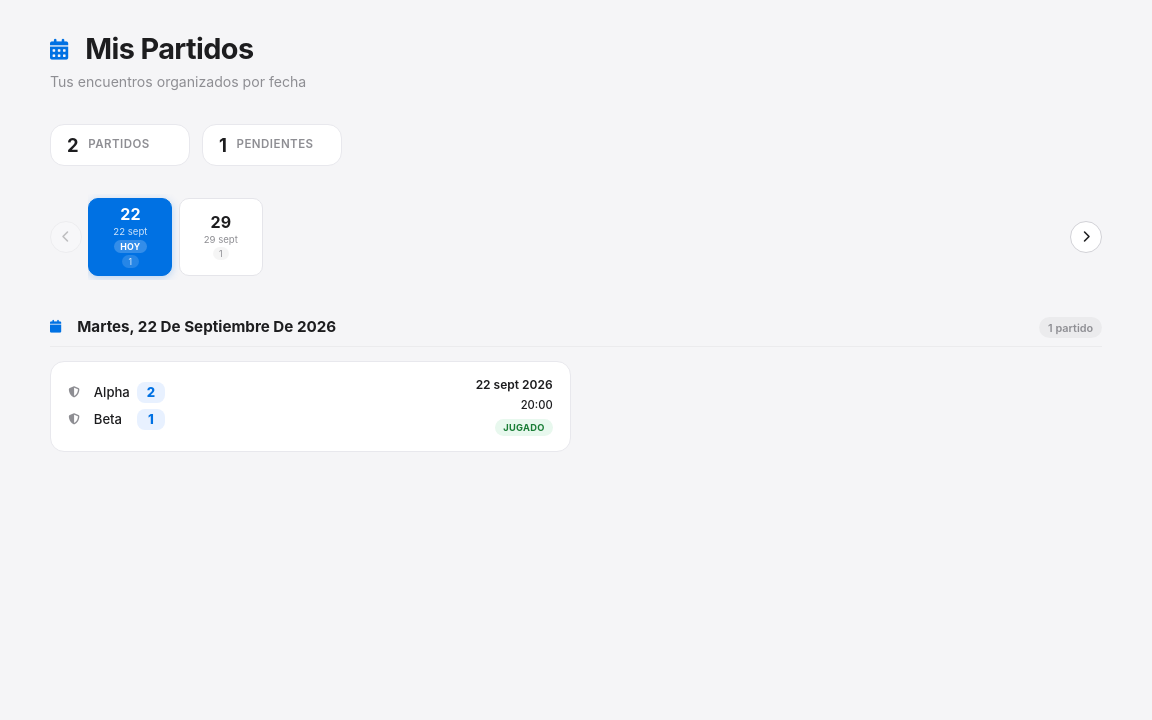
MyMatches › abre el modal de detalle al pulsar un partido
The width and height of the screenshot is (1152, 720).
Click the text "Alpha" at (112, 393), box [94,383,130,403]
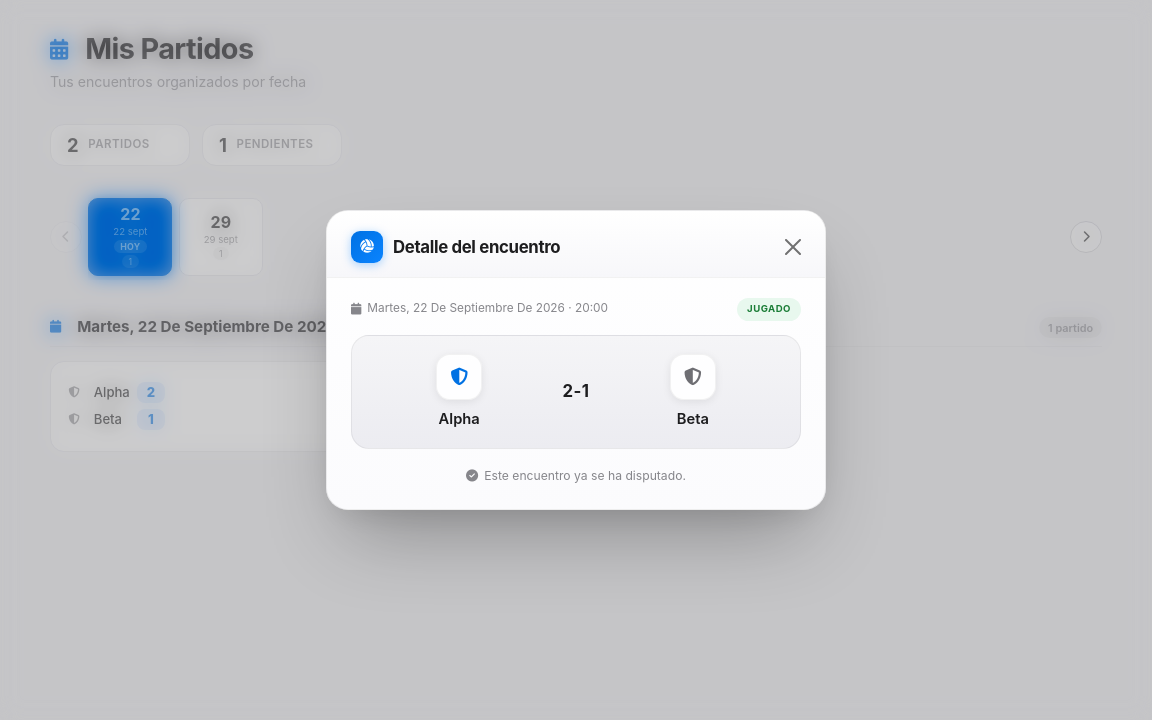
Expected: the dialog is shown, [326,210,826,510]
